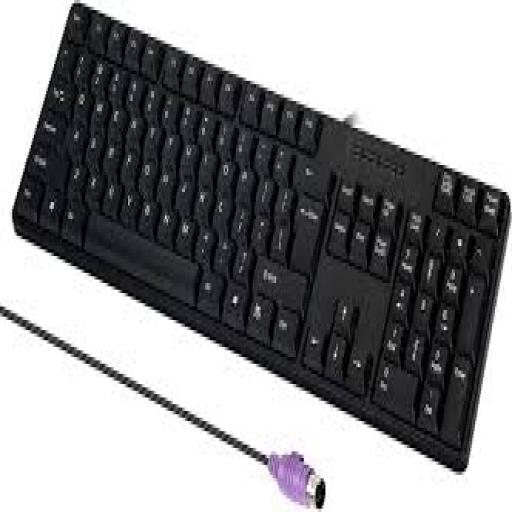KEYBOARD-2: (12, 3, 510, 468)
